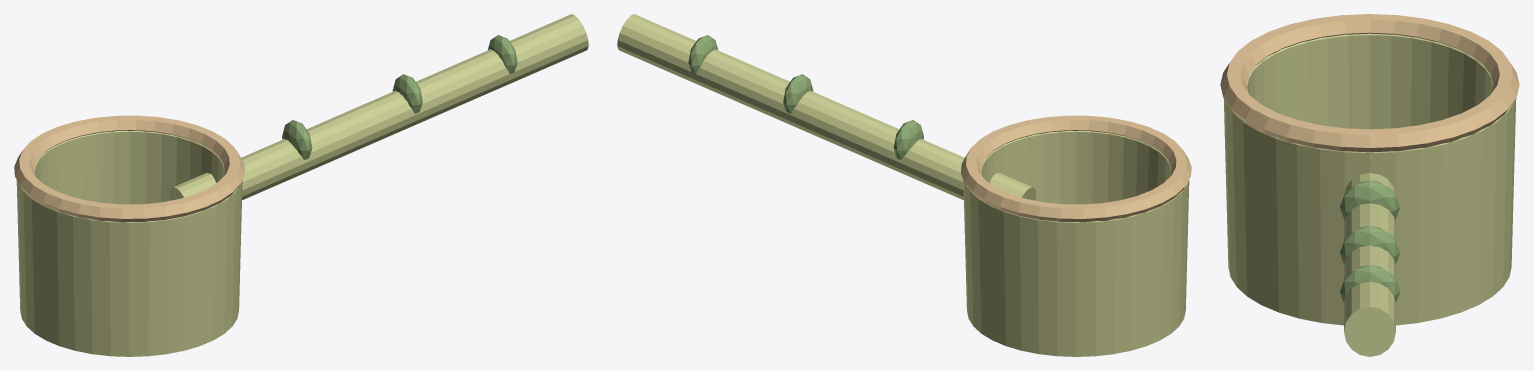
File: tea_hishaku.glb
The picture shows the model from 3 angles, left to right: view 1: azimuth 30°, elevation 25°; view 2: azimuth 150°, elevation 25°; view 3: azimuth 270°, elevation 25°; orthographic projection. The views are drawn at different scales.
Visible parts, largest first — view 1: Bamboo scoop cup, Long bamboo handle, Thick exposed bamboo lip, Growth node, Growth node.001, Growth node.002; view 2: Bamboo scoop cup, Long bamboo handle, Thick exposed bamboo lip, Growth node, Growth node.001, Growth node.002; view 3: Bamboo scoop cup, Thick exposed bamboo lip, Long bamboo handle, Growth node, Growth node.001, Growth node.002.
Part boxes in pixels (x1,y1,x2,y2): Bamboo scoop cup: (16,130,242,356); Long bamboo handle: (169,14,588,200); Thick exposed bamboo lip: (14,115,244,222); Growth node: (282,120,312,159); Growth node.001: (392,74,422,113); Growth node.002: (488,35,517,73); Bamboo scoop cup: (963,130,1189,356); Long bamboo handle: (617,14,1036,200); Thick exposed bamboo lip: (961,115,1191,222); Growth node: (893,120,923,159); Growth node.001: (783,74,813,113); Growth node.002: (688,35,717,73); Bamboo scoop cup: (1223,33,1516,325); Thick exposed bamboo lip: (1220,14,1519,152); Long bamboo handle: (1344,173,1395,356); Growth node: (1340,180,1399,220); Growth node.001: (1340,226,1399,264); Growth node.002: (1340,265,1399,302).
Bounding box in the file's own units: 1.95 × 0.6409 × 0.7077.
